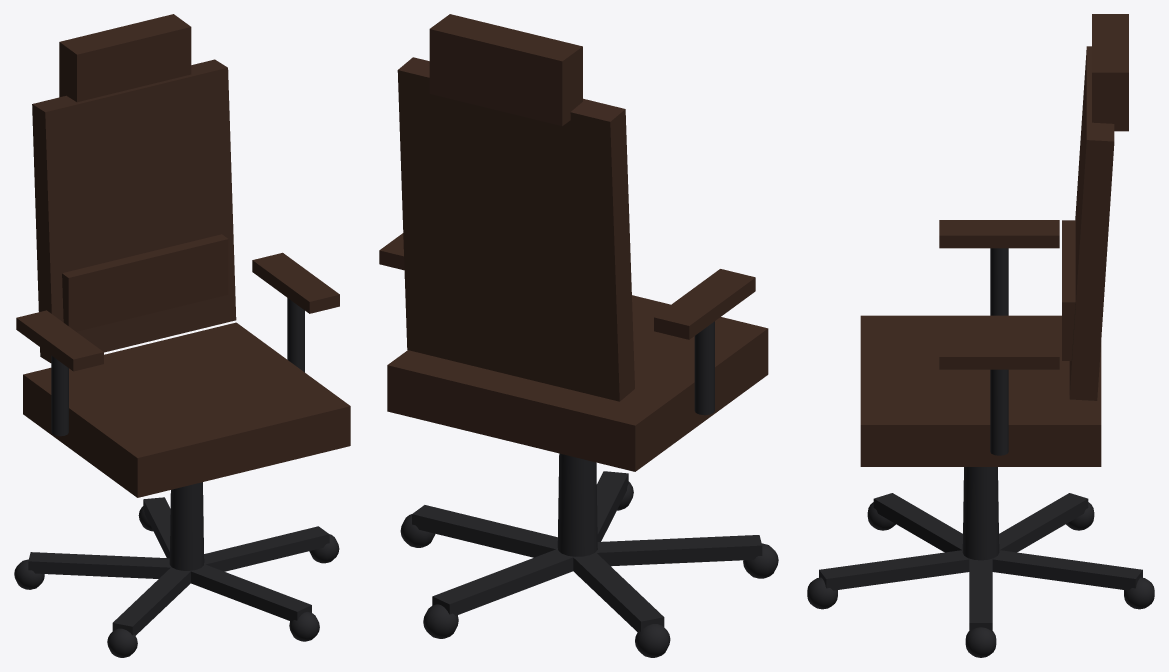
File: office-chair.glb
The picture shows the model from 3 angles, left to right: view 1: azimuth 30°, elevation 25°; view 2: azimuth 150°, elevation 25°; view 3: azimuth 270°, elevation 25°; orthographic projection. The views are drawn at different scales.
Parts seen in each view (by area): view 1: backrest, seat, OfficeChair, accessory_lumbar, accessory_headrest, accessory_armrest_1, accessory_armrest_2; view 2: backrest, seat, OfficeChair, accessory_headrest, accessory_armrest_1, accessory_armrest_2; view 3: seat, OfficeChair, backrest, accessory_headrest, accessory_armrest_1, accessory_armrest_2, accessory_lumbar.
Part boxes in pixels (x1=…): backrest: x1=32, y1=59, x2=236, y2=362; seat: x1=23, y1=322, x2=350, y2=497; OfficeChair: x1=14, y1=298, x2=339, y2=657; accessory_lumbar: x1=62, y1=234, x2=228, y2=331; accessory_headrest: x1=59, y1=14, x2=191, y2=102; accessory_armrest_1: x1=16, y1=310, x2=103, y2=371; accessory_armrest_2: x1=252, y1=252, x2=339, y2=313; backrest: x1=397, y1=57, x2=634, y2=401; seat: x1=387, y1=295, x2=768, y2=471; OfficeChair: x1=400, y1=321, x2=778, y2=657; accessory_headrest: x1=429, y1=14, x2=582, y2=126; accessory_armrest_1: x1=654, y1=269, x2=755, y2=339; accessory_armrest_2: x1=379, y1=233, x2=404, y2=270; seat: x1=860, y1=315, x2=1101, y2=466; OfficeChair: x1=807, y1=248, x2=1154, y2=657; backrest: x1=1069, y1=46, x2=1114, y2=400; accessory_headrest: x1=1092, y1=14, x2=1128, y2=131; accessory_armrest_1: x1=939, y1=220, x2=1059, y2=248; accessory_armrest_2: x1=939, y1=341, x2=1059, y2=369; accessory_lumbar: x1=1062, y1=220, x2=1075, y2=360.
Bounding box in the file's own units: 0.745 × 1.3 × 0.7513.
